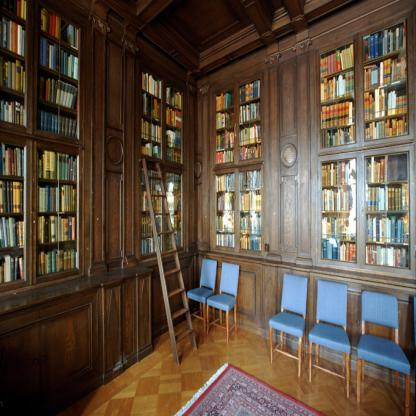book: (363, 20, 410, 142), (38, 13, 82, 136), (366, 157, 410, 270), (39, 152, 79, 272), (0, 139, 28, 277), (320, 42, 357, 145), (321, 157, 356, 260), (1, 0, 28, 126), (140, 174, 184, 250), (239, 168, 261, 250), (142, 74, 165, 150), (238, 81, 259, 157), (214, 94, 235, 162), (216, 174, 234, 252), (165, 89, 184, 161), (390, 215, 400, 244)
